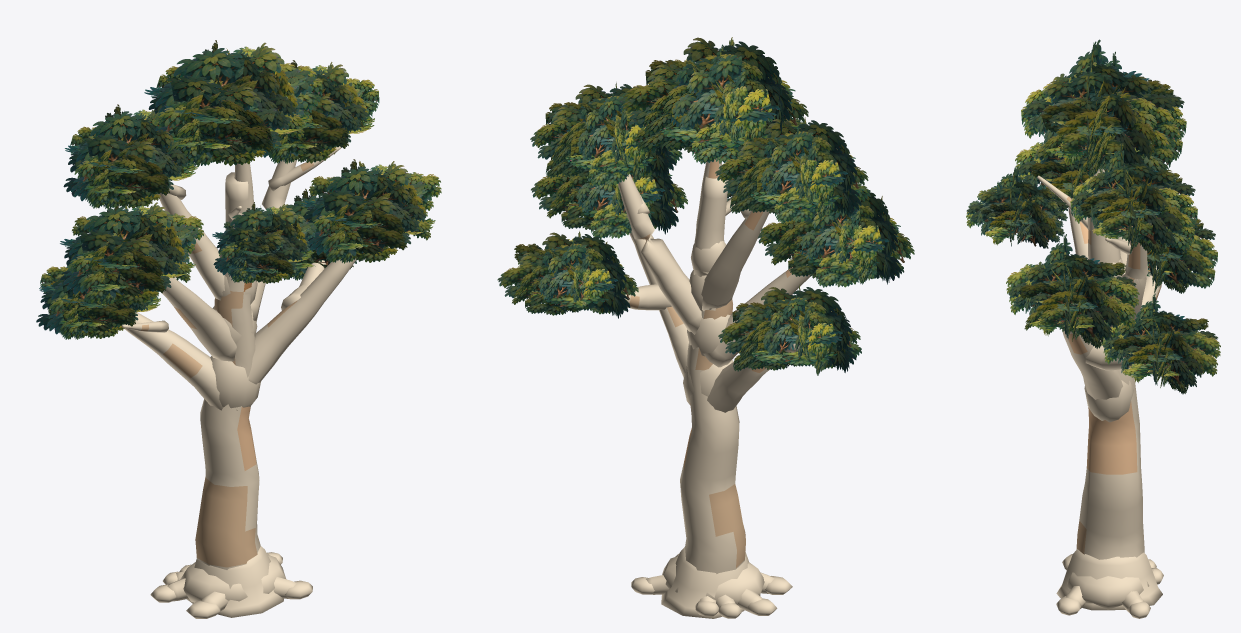
The model's file is TREE_EUCALYPTUS_001_v010_LOD_GAMEPLAY.glb.
3 views of the same model, side by side, from view 1: azimuth 30°, elevation 25°; view 2: azimuth 150°, elevation 25°; view 3: azimuth 270°, elevation 25° (orthographic). The views are drawn at different scales.
Parts seen in each view (by area): view 1: TREE_EUCALYPTUS_001_GAMEPLAY_AUTHORED_FOLIAGE_ISLANDS, TREE_EUCALYPTUS_001_GAMEPLAY_MAIN_TRUNK, TREE_EUCALYPTUS_001_GAMEPLAY_MID_RIGHT_SWEEP, TREE_EUCALYPTUS_001_GAMEPLAY_LOWER_LEFT_SWEEP, TREE_EUCALYPTUS_001_GAMEPLAY_MID_LEFT_ARCH, TREE_EUCALYPTUS_001_GAMEPLAY_SCULPTED_ROOT_COLLAR, TREE_EUCALYPTUS_001_GAMEPLAY_BROAD_PLANTED_ROOT_MOUND, TREE_EUCALYPTUS_001_GAMEPLAY_UPPER_LEFT_FORK, TREE_EUCALYPTUS_001_GAMEPLAY_SCULPTED_FORK_SWELL_0, TREE_EUCALYPTUS_001_GAMEPLAY_UPPER_RIGHT_ARCH, TREE_EUCALYPTUS_001_GAMEPLAY_RIGHT_TOP_SUPPORT, TREE_EUCALYPTUS_001_GAMEPLAY_LOWER_RIGHT_REACH; view 2: TREE_EUCALYPTUS_001_GAMEPLAY_AUTHORED_FOLIAGE_ISLANDS, TREE_EUCALYPTUS_001_GAMEPLAY_MAIN_TRUNK, TREE_EUCALYPTUS_001_GAMEPLAY_UPPER_RIGHT_ARCH, TREE_EUCALYPTUS_001_GAMEPLAY_UPPER_LEFT_FORK, TREE_EUCALYPTUS_001_GAMEPLAY_SCULPTED_ROOT_COLLAR, TREE_EUCALYPTUS_001_GAMEPLAY_LOWER_LEFT_SWEEP, TREE_EUCALYPTUS_001_GAMEPLAY_MID_RIGHT_SWEEP, TREE_EUCALYPTUS_001_GAMEPLAY_BROAD_PLANTED_ROOT_MOUND, TREE_EUCALYPTUS_001_GAMEPLAY_MID_LEFT_ARCH, TREE_EUCALYPTUS_001_GAMEPLAY_SCULPTED_FORK_SWELL_1, TREE_EUCALYPTUS_001_GAMEPLAY_LOWER_RIGHT_REACH, TREE_EUCALYPTUS_001_GAMEPLAY_SCULPTED_FORK_SWELL_0 (+1 smaller); view 3: TREE_EUCALYPTUS_001_GAMEPLAY_AUTHORED_FOLIAGE_ISLANDS, TREE_EUCALYPTUS_001_GAMEPLAY_MAIN_TRUNK, TREE_EUCALYPTUS_001_GAMEPLAY_SCULPTED_ROOT_COLLAR, TREE_EUCALYPTUS_001_GAMEPLAY_MID_RIGHT_SWEEP, TREE_EUCALYPTUS_001_GAMEPLAY_BROAD_PLANTED_ROOT_MOUND, TREE_EUCALYPTUS_001_GAMEPLAY_SCULPTED_FORK_SWELL_0, TREE_EUCALYPTUS_001_GAMEPLAY_UPPER_RIGHT_ARCH, TREE_EUCALYPTUS_001_GAMEPLAY_CENTRAL_CROWN_FORK, TREE_EUCALYPTUS_001_GAMEPLAY_MID_LEFT_ARCH, TREE_EUCALYPTUS_001_GAMEPLAY_LOWER_RIGHT_REACH.
Part boxes in pixels (<box>): TREE_EUCALYPTUS_001_GAMEPLAY_AUTHORED_FOLIAGE_ISLANDS: <box>36,40,441,339</box>; TREE_EUCALYPTUS_001_GAMEPLAY_MAIN_TRUNK: <box>195,172,260,569</box>; TREE_EUCALYPTUS_001_GAMEPLAY_MID_RIGHT_SWEEP: <box>248,257,357,384</box>; TREE_EUCALYPTUS_001_GAMEPLAY_LOWER_LEFT_SWEEP: <box>124,312,237,410</box>; TREE_EUCALYPTUS_001_GAMEPLAY_MID_LEFT_ARCH: <box>162,276,236,361</box>; TREE_EUCALYPTUS_001_GAMEPLAY_SCULPTED_ROOT_COLLAR: <box>187,546,283,617</box>; TREE_EUCALYPTUS_001_GAMEPLAY_BROAD_PLANTED_ROOT_MOUND: <box>180,555,285,602</box>; TREE_EUCALYPTUS_001_GAMEPLAY_UPPER_LEFT_FORK: <box>158,193,224,300</box>; TREE_EUCALYPTUS_001_GAMEPLAY_SCULPTED_FORK_SWELL_0: <box>210,356,260,408</box>; TREE_EUCALYPTUS_001_GAMEPLAY_UPPER_RIGHT_ARCH: <box>250,159,296,321</box>; TREE_EUCALYPTUS_001_GAMEPLAY_RIGHT_TOP_SUPPORT: <box>268,146,342,191</box>; TREE_EUCALYPTUS_001_GAMEPLAY_LOWER_RIGHT_REACH: <box>281,260,326,310</box>; TREE_EUCALYPTUS_001_GAMEPLAY_AUTHORED_FOLIAGE_ISLANDS: <box>497,37,914,375</box>; TREE_EUCALYPTUS_001_GAMEPLAY_MAIN_TRUNK: <box>680,176,745,573</box>; TREE_EUCALYPTUS_001_GAMEPLAY_UPPER_RIGHT_ARCH: <box>615,150,701,334</box>; TREE_EUCALYPTUS_001_GAMEPLAY_UPPER_LEFT_FORK: <box>701,210,769,311</box>; TREE_EUCALYPTUS_001_GAMEPLAY_SCULPTED_ROOT_COLLAR: <box>661,547,760,618</box>; TREE_EUCALYPTUS_001_GAMEPLAY_LOWER_LEFT_SWEEP: <box>707,343,799,412</box>; TREE_EUCALYPTUS_001_GAMEPLAY_MID_RIGHT_SWEEP: <box>629,230,688,377</box>; TREE_EUCALYPTUS_001_GAMEPLAY_BROAD_PLANTED_ROOT_MOUND: <box>662,556,764,604</box>; TREE_EUCALYPTUS_001_GAMEPLAY_MID_LEFT_ARCH: <box>703,264,810,367</box>; TREE_EUCALYPTUS_001_GAMEPLAY_SCULPTED_FORK_SWELL_1: <box>687,314,730,356</box>; TREE_EUCALYPTUS_001_GAMEPLAY_LOWER_RIGHT_REACH: <box>624,284,671,310</box>; TREE_EUCALYPTUS_001_GAMEPLAY_SCULPTED_FORK_SWELL_0: <box>683,360,733,405</box>; TREE_EUCALYPTUS_001_GAMEPLAY_AUTHORED_FOLIAGE_ISLANDS: <box>966,39,1220,394</box>; TREE_EUCALYPTUS_001_GAMEPLAY_MAIN_TRUNK: <box>1076,217,1144,559</box>; TREE_EUCALYPTUS_001_GAMEPLAY_SCULPTED_ROOT_COLLAR: <box>1056,549,1162,610</box>; TREE_EUCALYPTUS_001_GAMEPLAY_MID_RIGHT_SWEEP: <box>1062,329,1122,399</box>; TREE_EUCALYPTUS_001_GAMEPLAY_BROAD_PLANTED_ROOT_MOUND: <box>1067,572,1149,609</box>; TREE_EUCALYPTUS_001_GAMEPLAY_SCULPTED_FORK_SWELL_0: <box>1084,380,1133,422</box>; TREE_EUCALYPTUS_001_GAMEPLAY_UPPER_RIGHT_ARCH: <box>1100,240,1148,340</box>; TREE_EUCALYPTUS_001_GAMEPLAY_CENTRAL_CROWN_FORK: <box>1088,167,1111,263</box>; TREE_EUCALYPTUS_001_GAMEPLAY_MID_LEFT_ARCH: <box>1068,196,1088,259</box>; TREE_EUCALYPTUS_001_GAMEPLAY_LOWER_RIGHT_REACH: <box>1085,341,1150,370</box>.
Size of the model in its own units: 9.99 by 13.9 by 6.29.
5 materials, 1 textured.
